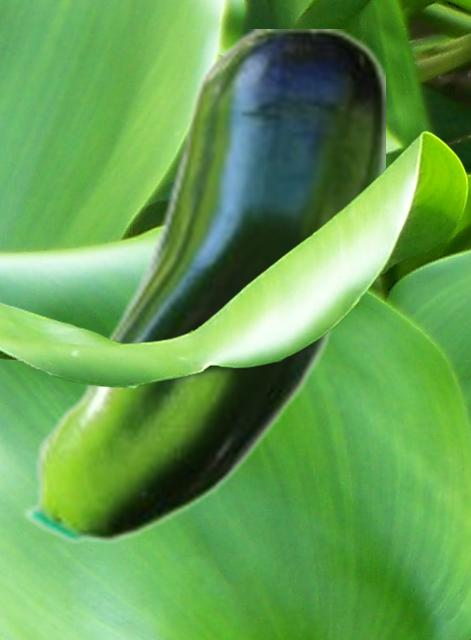green_chili: (20, 29, 384, 545)
